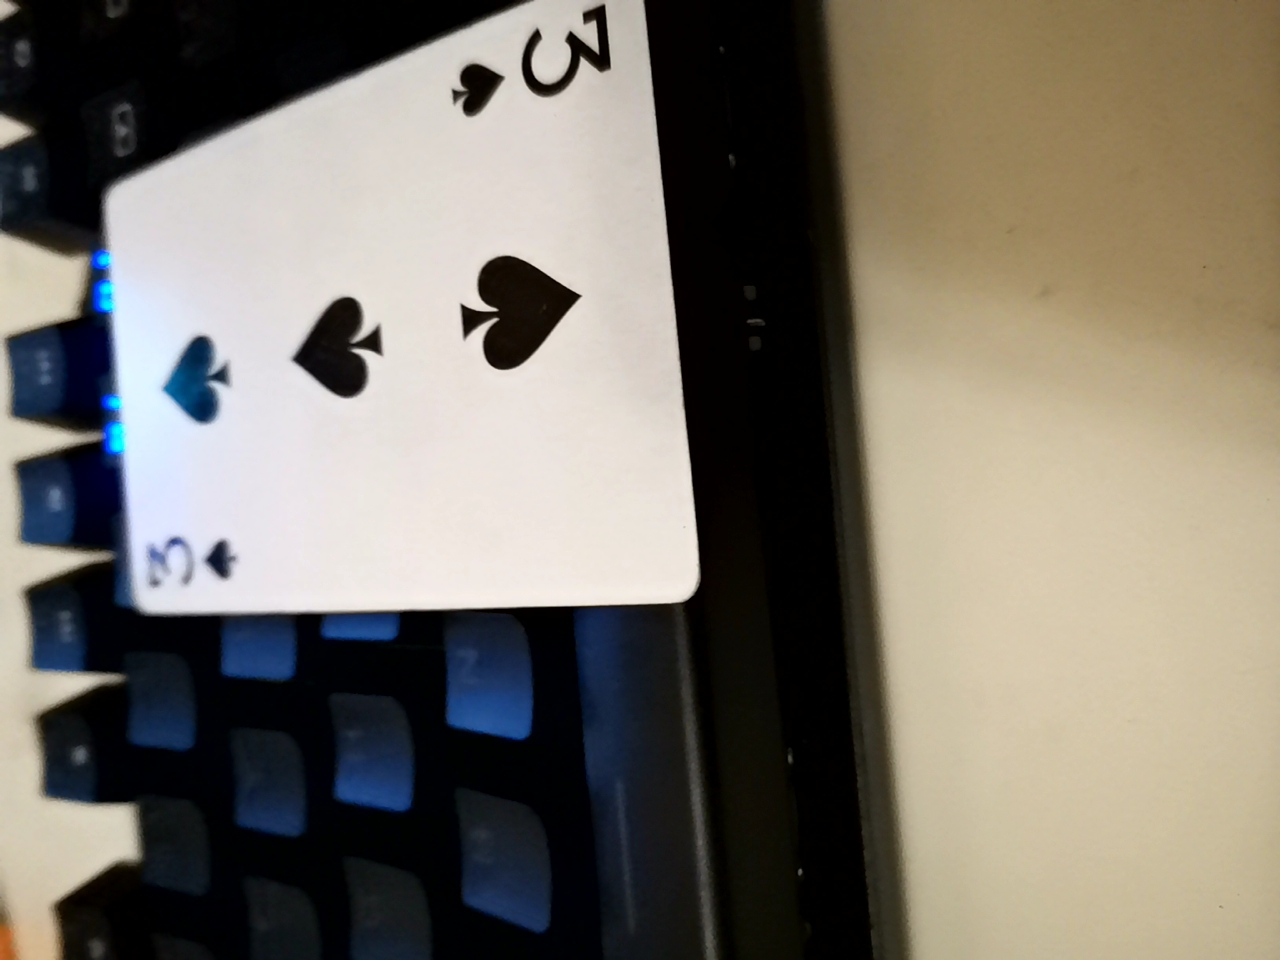ht 3: (130, 6, 696, 588)
